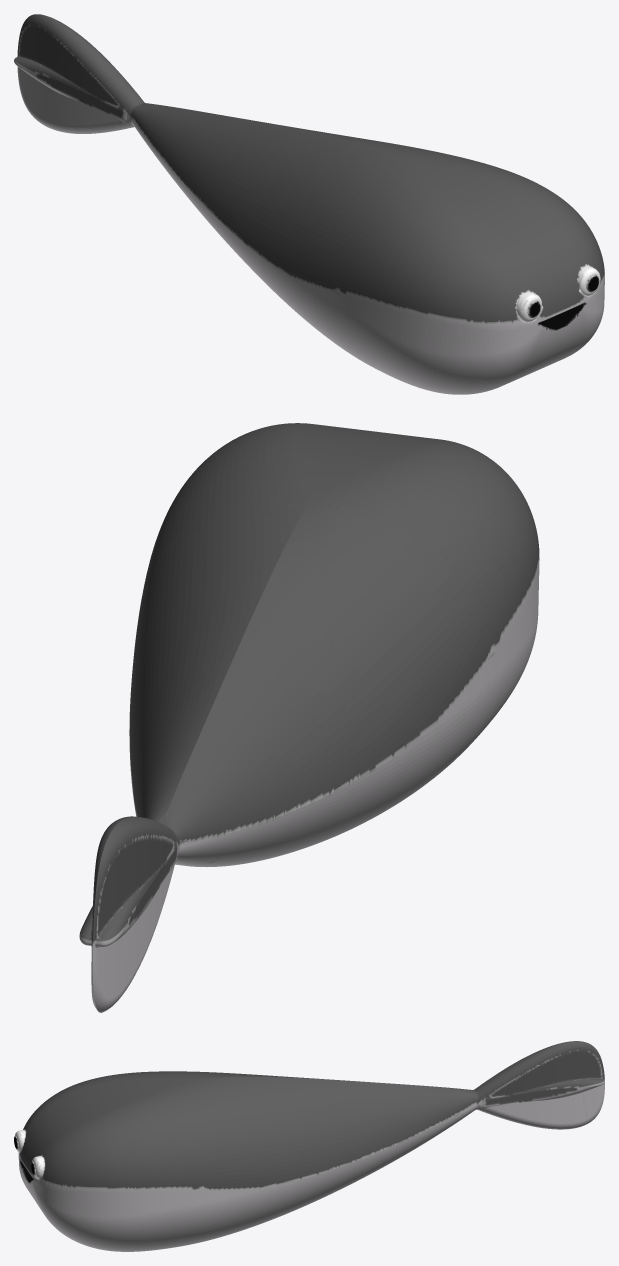
Rendered from Sacabambaspis-kun.fbx.
3 views of the same model, one above another, from view 1: azimuth 30°, elevation 25°; view 2: azimuth 150°, elevation 25°; view 3: azimuth 270°, elevation 25° (orthographic). The views are drawn at different scales.
Visible parts, largest first — view 1: node_id3; view 2: node_id3; view 3: node_id3.
Part boxes in pixels (box(x1,y1,x2,y2)): node_id3: box(14, 14, 604, 394); node_id3: box(79, 423, 539, 1012); node_id3: box(14, 1041, 604, 1251).
Bounding box in the file's own units: 0.2002 × 0.1396 × 0.5026.
1 material, 1 textured.
